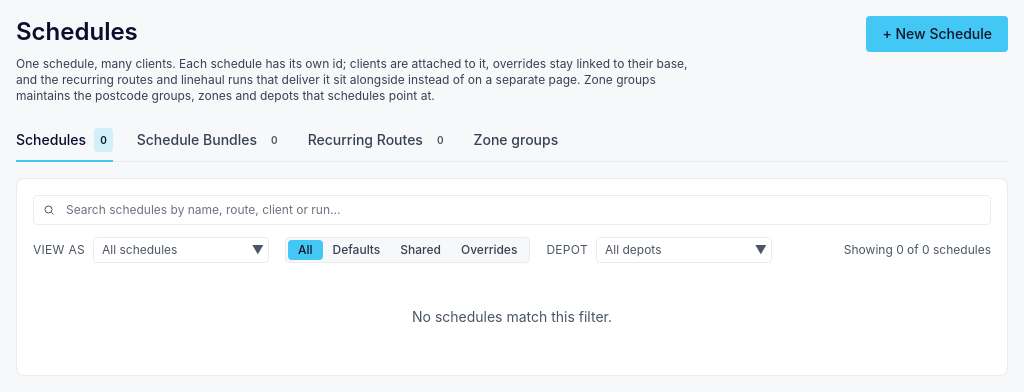
it: Schedules NEW - Zone groups tab › opens the zone maintenance grid from the Zones sub-view
The width and height of the screenshot is (1024, 392).
(page scrolled)
Click the button "Zone groups" at [516, 141], box 474,120 -> 558,162
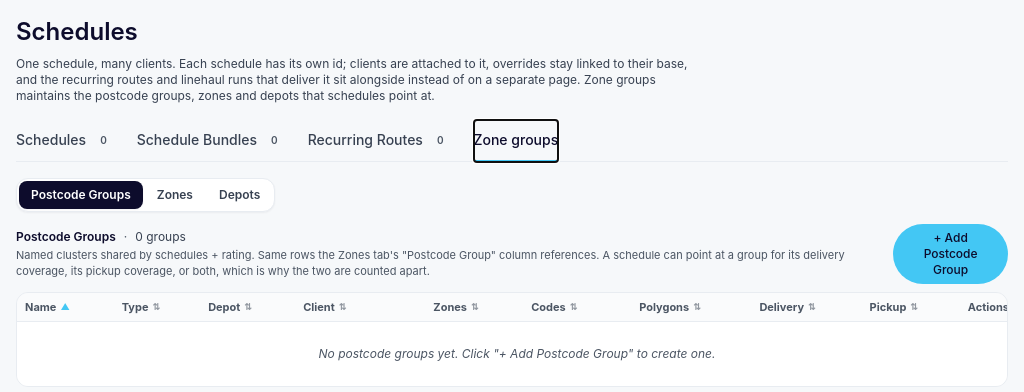
Click the button "Zones" at [175, 195], box 145,181 -> 205,209
(page scrolled)
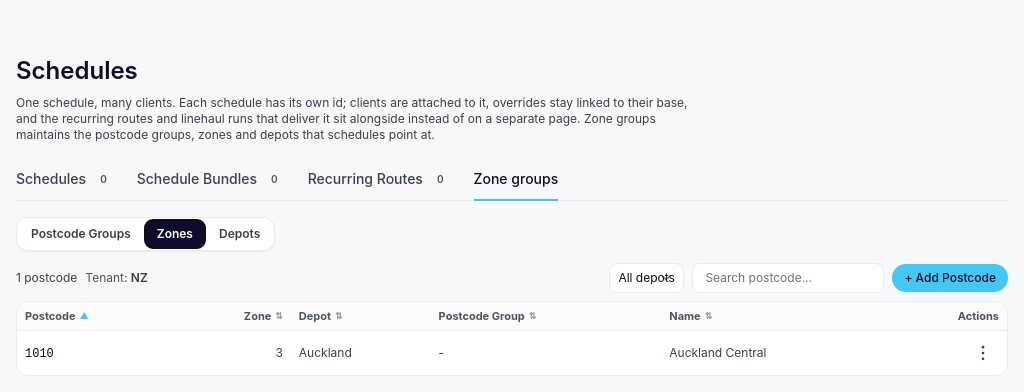
Expected: the button "+ Add Postcode" is shown, 892,264 -> 1008,292
Expected: the text "1010" is shown, 25,346 -> 54,360
